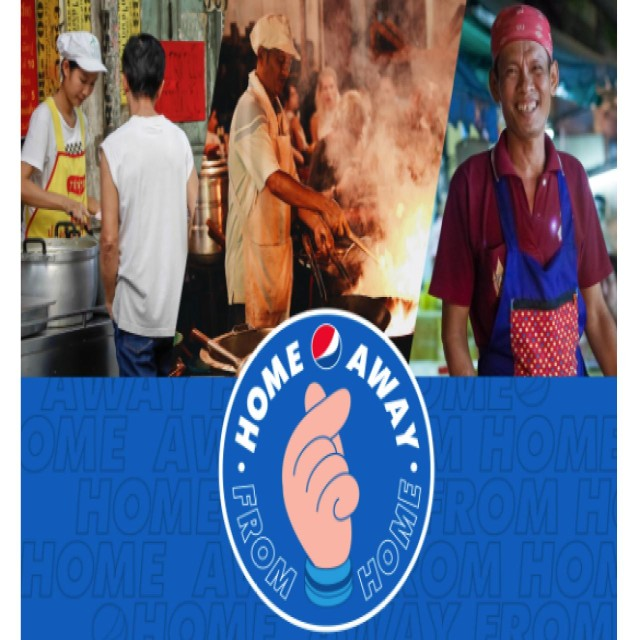pepsi: (311, 324, 343, 371)
